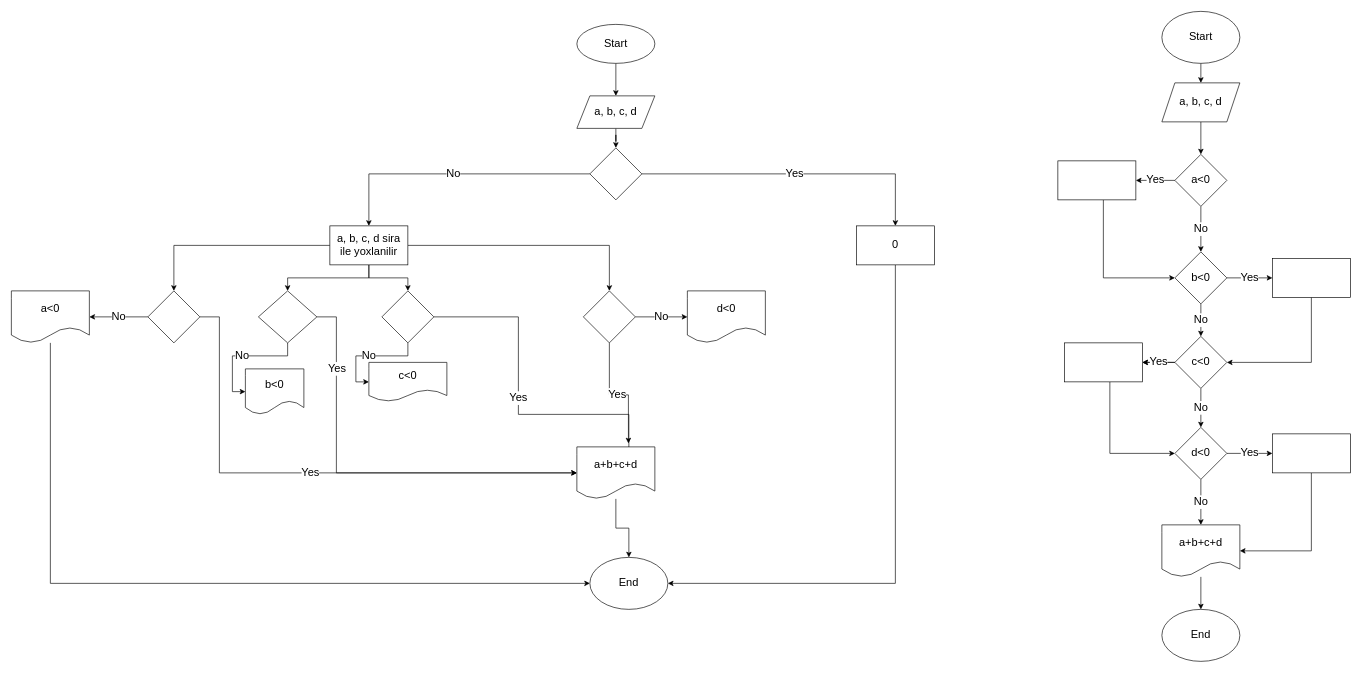
The diagram is 1362 pixels wide and 673 high, and some of its shapes have lost their labels. The box of each missing label's shape, as (x1, y1, x2, y2) in pixels:
a, b, c,d<0: (589, 147, 642, 200)
a=0: (1057, 160, 1136, 200)
a>0: (147, 290, 200, 343)
b=0: (1272, 258, 1350, 297)
b>0: (258, 290, 317, 343)
c=0: (1064, 342, 1142, 382)
c>0: (381, 290, 434, 343)
d=0: (1272, 433, 1350, 473)
d>0: (583, 290, 635, 343)
